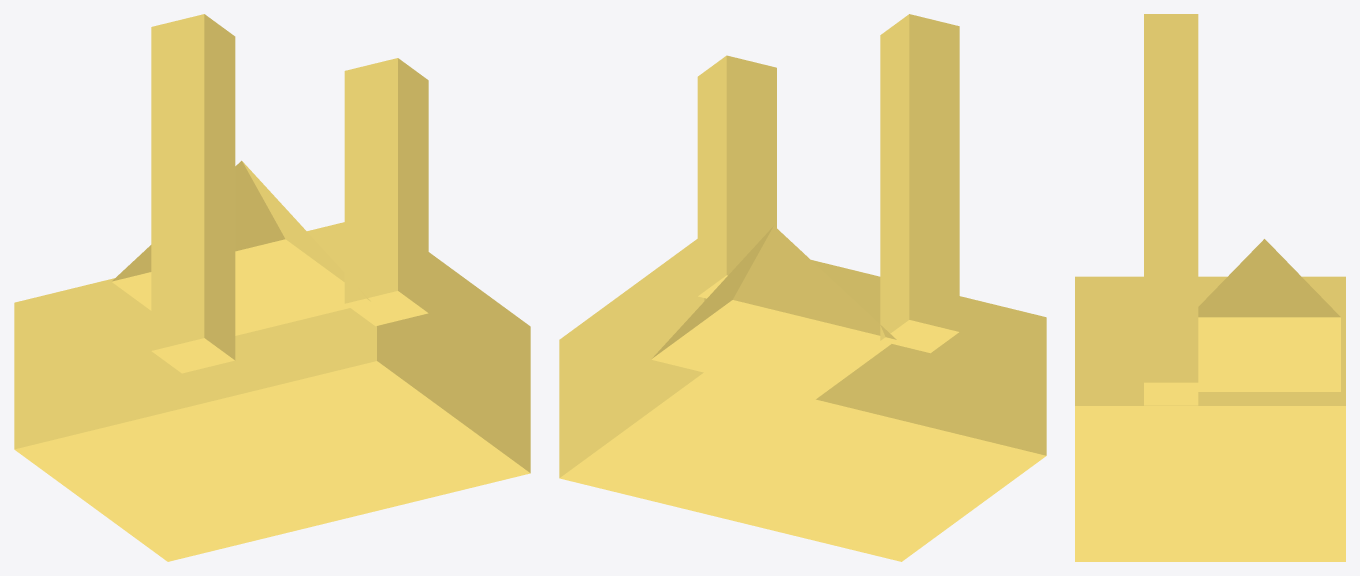
File: power.gltf
The picture shows the model from 3 angles, left to right: view 1: azimuth 30°, elevation 25°; view 2: azimuth 150°, elevation 25°; view 3: azimuth 270°, elevation 25°; orthographic projection. The views are drawn at different scales.
Parts seen in each view (by area): view 1: power; view 2: power; view 3: power.
Part boxes in pixels (x1,y1,x2,y2): power: [14, 14, 530, 561]; power: [559, 14, 1046, 561]; power: [1075, 14, 1345, 561].
Size of the model in its own units: 1.5 by 1.86 by 1.1.
